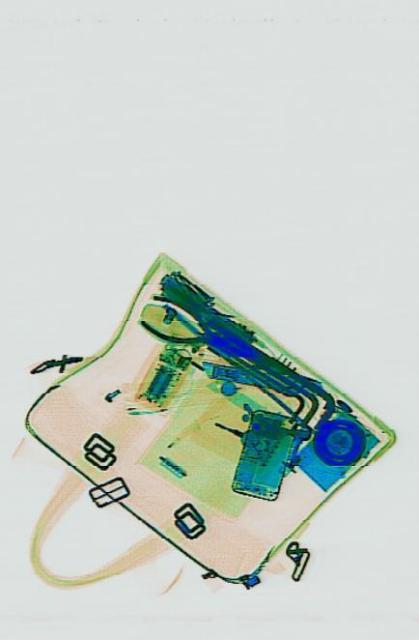Pliers: (137, 283, 238, 369)
